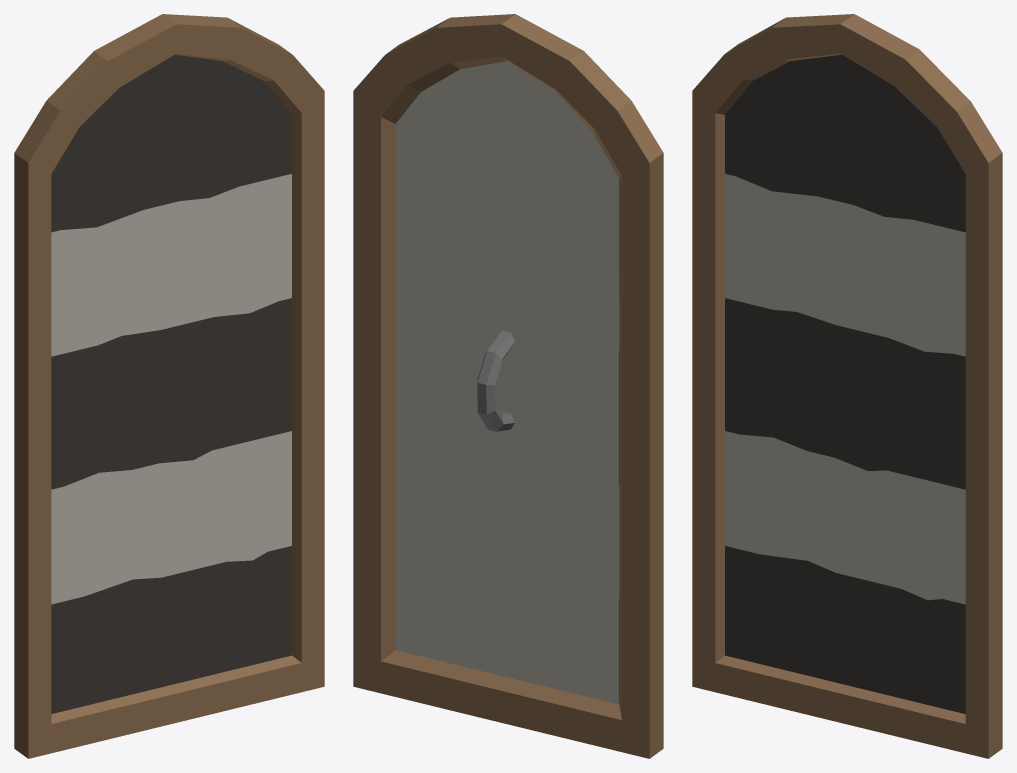
Rendered from SM_pwe_egypt_shield_01b.fbx.
The picture shows the model from 3 angles, left to right: view 1: azimuth 30°, elevation 25°; view 2: azimuth 150°, elevation 25°; view 3: azimuth 330°, elevation 25°; orthographic projection.
Parts seen in each view (by area): view 1: SM_pwe_egypt_shield_01b; view 2: SM_pwe_egypt_shield_01b; view 3: SM_pwe_egypt_shield_01b.
Boxes of the visible parts, bbox=[...] form: SM_pwe_egypt_shield_01b: bbox=[14, 14, 324, 758]; SM_pwe_egypt_shield_01b: bbox=[353, 14, 663, 758]; SM_pwe_egypt_shield_01b: bbox=[692, 14, 1002, 758].
Size of the model in its own units: 54.09 by 122 by 10.3.
